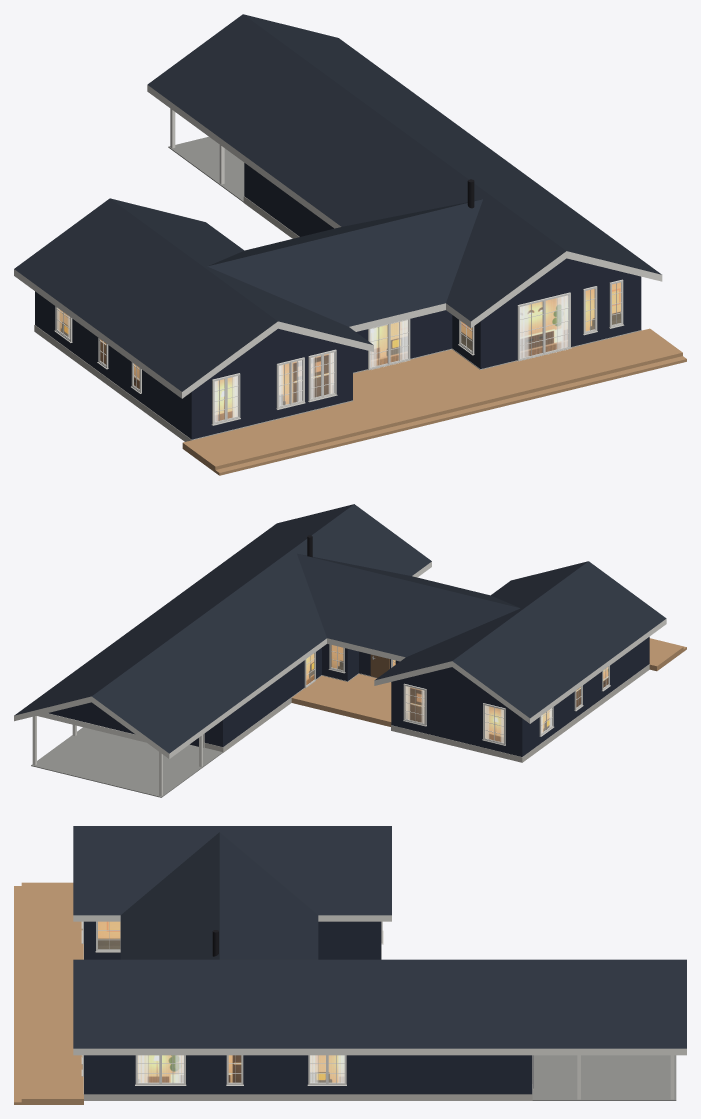
The model's file is teder270_c1_p0_m1.glb.
3 views of the same model, one above another, from view 1: azimuth 30°, elevation 25°; view 2: azimuth 150°, elevation 25°; view 3: azimuth 270°, elevation 25° (orthographic). The views are drawn at different scales.
Parts seen in each view (by area): view 1: roof, wall, deck, fascia, room, glass, frame, sheer, plinth, paving; view 2: roof, wall, paving, fascia, deck, plinth, room, frame, glass, sheer; view 3: roof, wall, deck, paving, fascia, plinth, room, glass, frame, sheer.
Part boxes in pixels (x1,y1,x2,y2): roof: [14, 14, 661, 391]; wall: [35, 163, 641, 439]; deck: [182, 328, 686, 475]; fascia: [14, 85, 662, 398]; room: [58, 282, 620, 420]; glass: [57, 283, 620, 421]; frame: [54, 279, 624, 425]; sheer: [57, 295, 568, 421]; plinth: [34, 196, 641, 441]; paving: [168, 136, 244, 202]; roof: [14, 504, 666, 753]; wall: [48, 637, 649, 756]; paving: [31, 727, 222, 797]; fascia: [14, 561, 666, 796]; deck: [291, 638, 686, 726]; plinth: [204, 664, 649, 762]; room: [306, 645, 608, 741]; frame: [203, 644, 610, 747]; glass: [307, 645, 607, 742]; sheer: [405, 686, 551, 742]; roof: [73, 826, 686, 1048]; wall: [84, 921, 532, 1094]; deck: [14, 882, 83, 1104]; paving: [532, 1055, 676, 1100]; fascia: [73, 915, 686, 1099]; plinth: [83, 944, 532, 1100]; room: [98, 921, 343, 1082]; glass: [98, 922, 343, 1082]; frame: [81, 921, 533, 1089]; sheer: [137, 1055, 344, 1082].
Bounding box in the file's own units: 21.93 × 5.66 × 28.07.
Materials: 15 (6 with a texture image).
